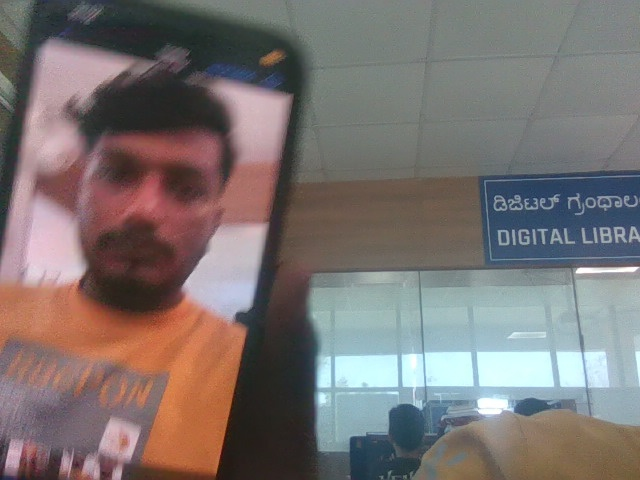fake: (35, 18, 254, 329)
